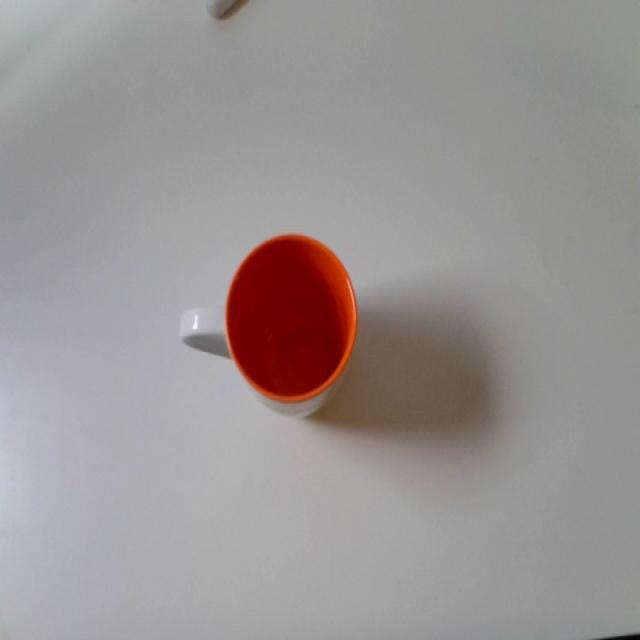cup: (222, 232, 360, 418)
